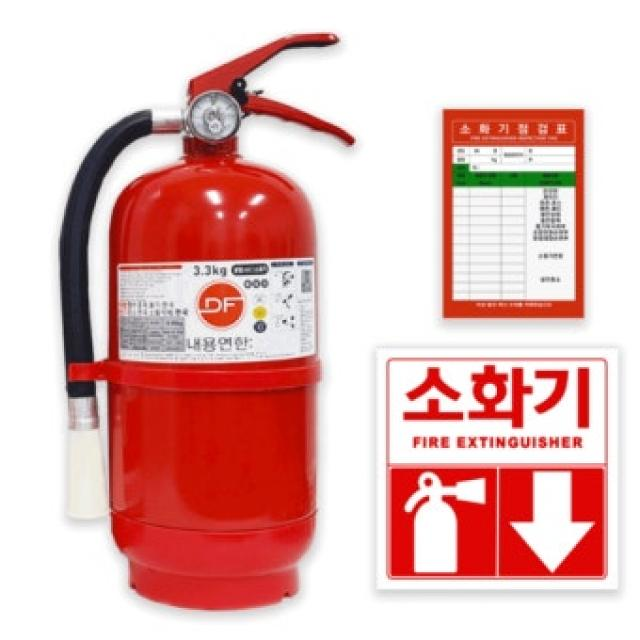pressure gauge: (186, 90, 239, 141)
